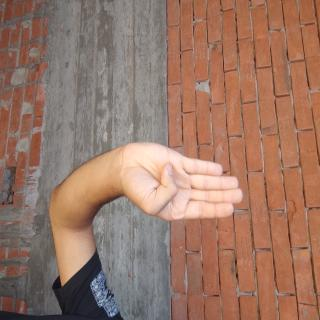KAAF: (103, 98, 173, 283)
